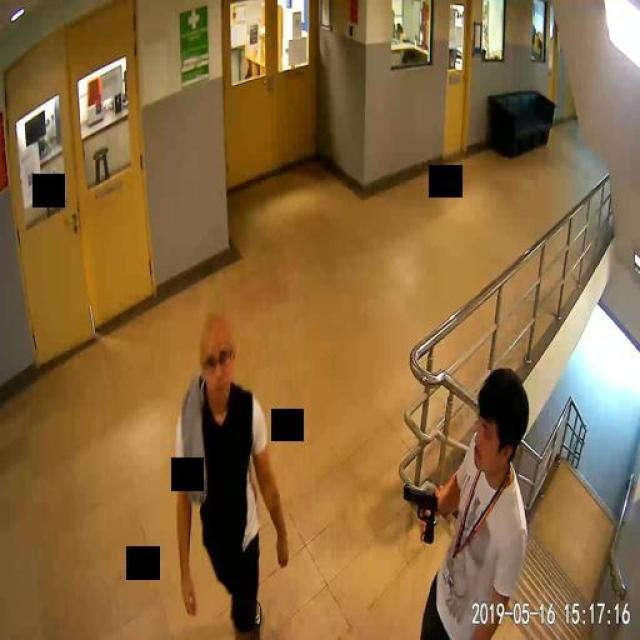gun: (401, 480, 435, 545)
